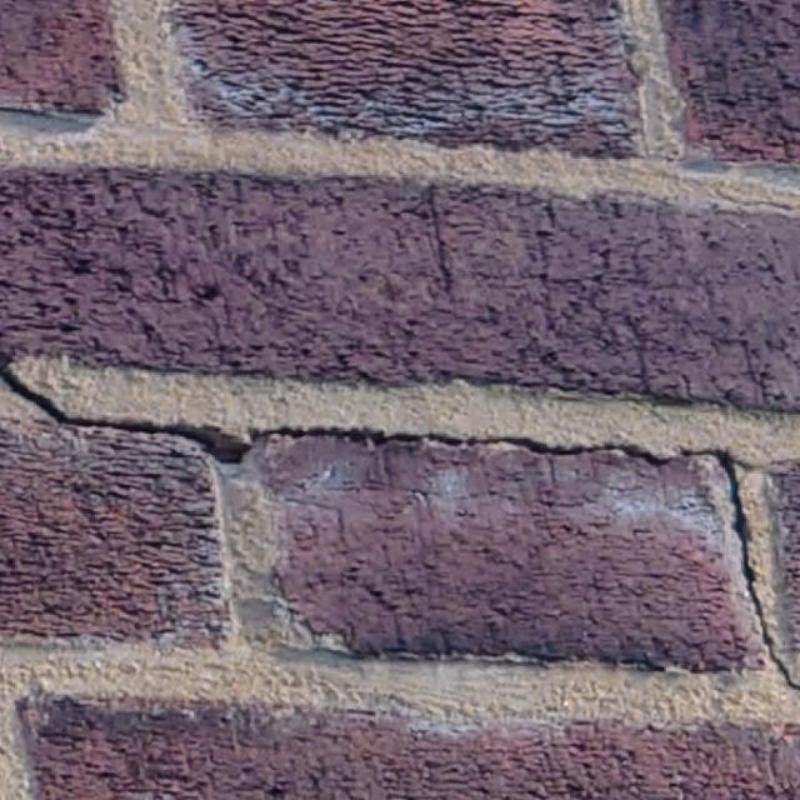pothole: (2, 366, 800, 687)
